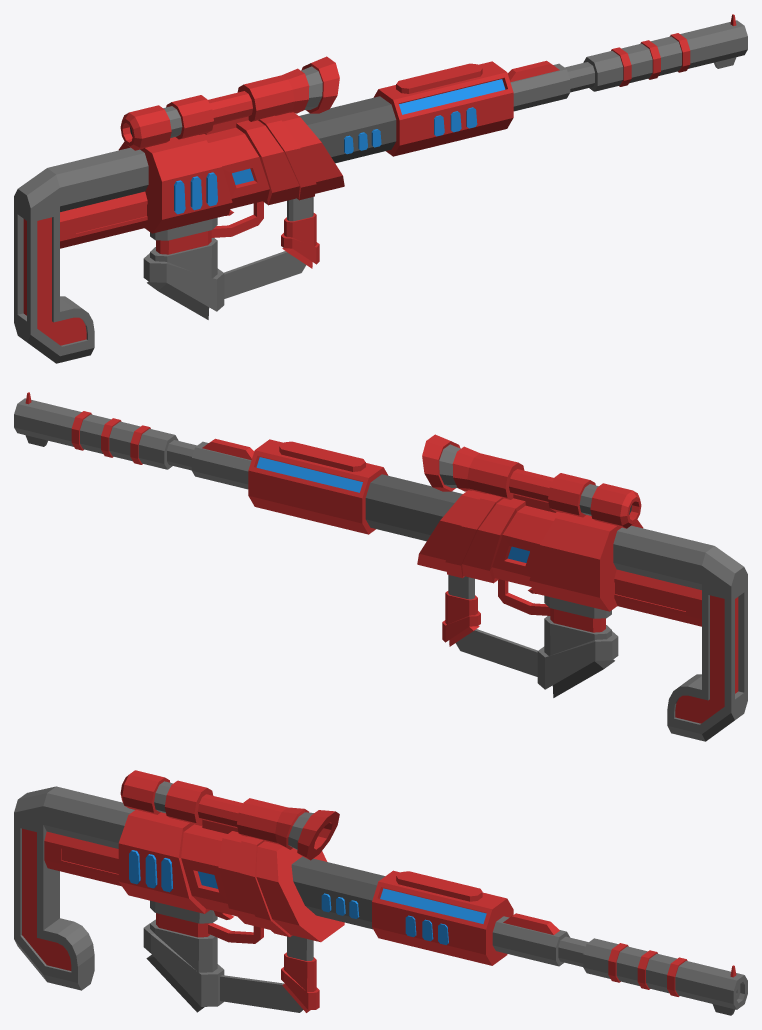
The model's file is Sniper.fbx.
The picture shows the model from 3 angles, top to bottom: view 1: azimuth 30°, elevation 25°; view 2: azimuth 150°, elevation 25°; view 3: azimuth 330°, elevation 25°; orthographic projection.
Parts seen in each view (by area): view 1: Sniper; view 2: Sniper; view 3: Sniper.
Part boxes in pixels (x1=…): Sniper: x1=14, y1=14, x2=747, y2=363; Sniper: x1=14, y1=392, x2=747, y2=741; Sniper: x1=14, y1=770, x2=747, y2=1015.
Bounding box in the file's own units: 299 × 92.52 × 33.27.
